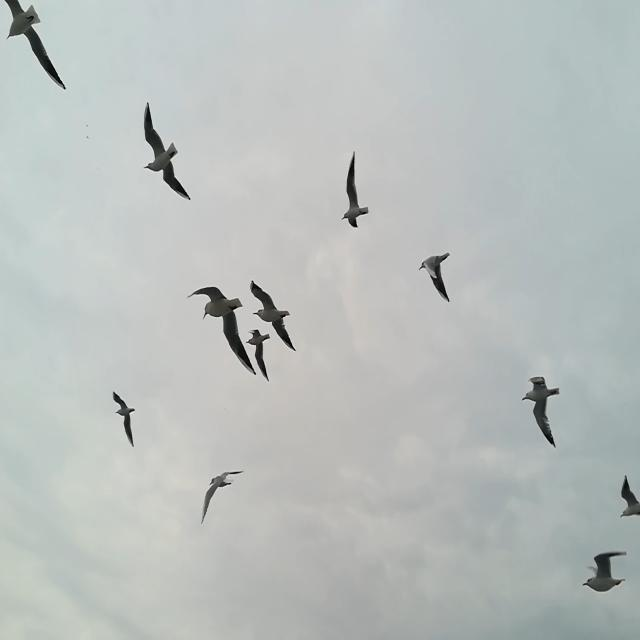bird: (187, 286, 257, 378), (3, 0, 68, 92), (141, 103, 191, 198), (251, 280, 296, 352), (522, 377, 562, 448), (201, 468, 244, 524), (341, 151, 369, 230), (584, 552, 628, 594), (419, 253, 453, 304), (245, 327, 272, 384), (112, 392, 136, 446), (620, 474, 640, 519)
